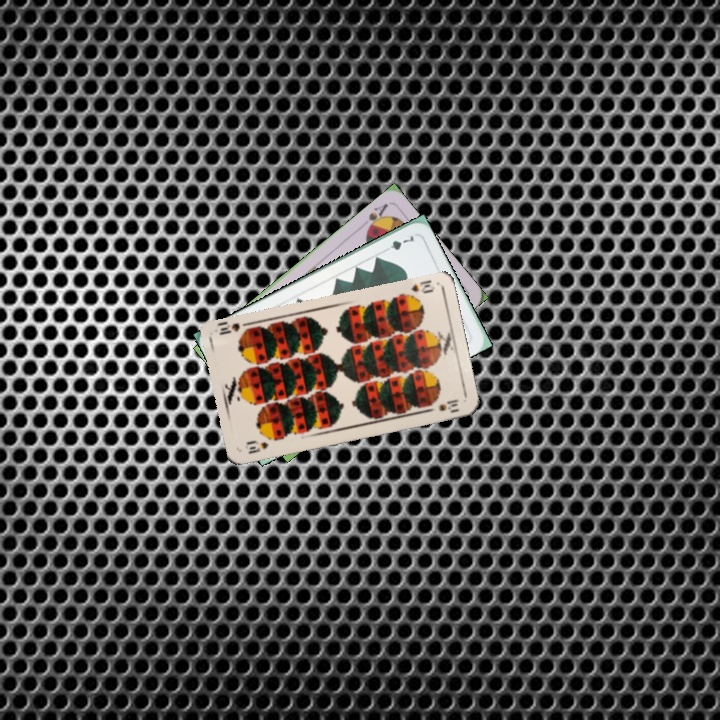G7: (379, 231, 416, 255)
S10: (400, 276, 437, 301), (241, 437, 271, 456)
SA: (362, 199, 391, 235)
